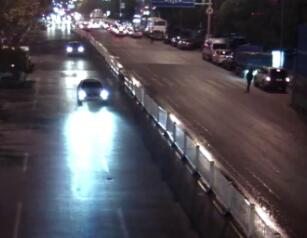bus: (144, 15, 168, 37)
car: (73, 76, 110, 109), (252, 62, 291, 89), (200, 34, 228, 57), (206, 46, 235, 64), (62, 40, 84, 58), (171, 31, 193, 46)
